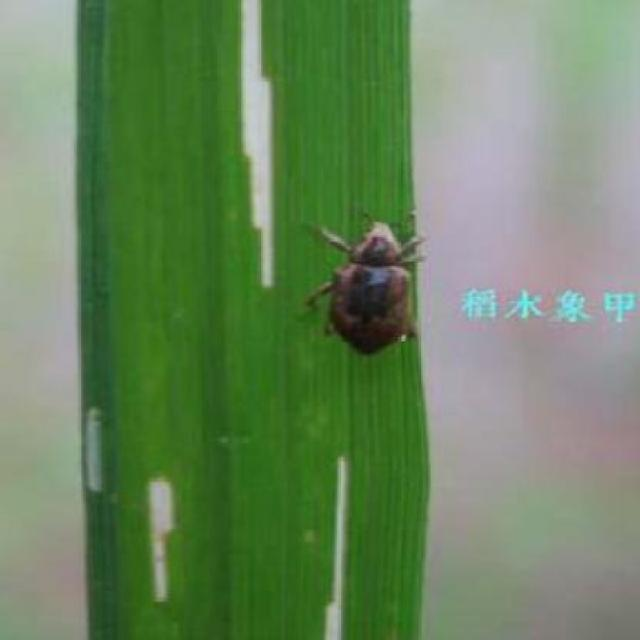rice-bug: (304, 209, 428, 362)
